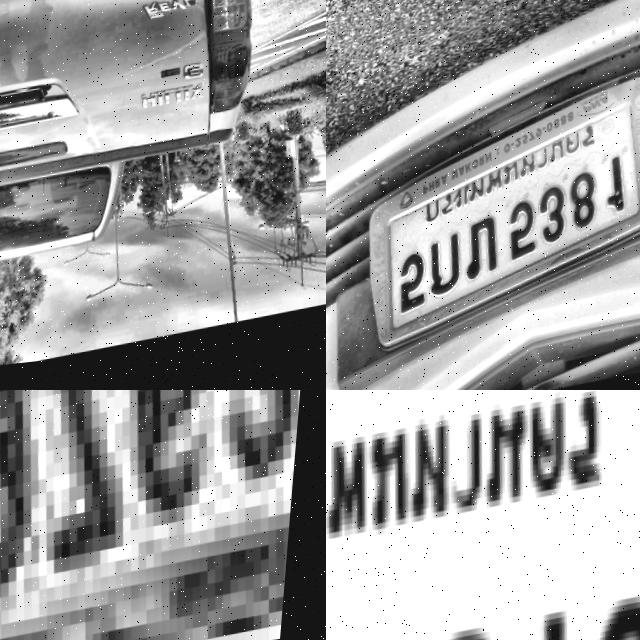license-plate: (355, 74, 640, 373), (0, 390, 326, 640), (326, 390, 640, 640)
